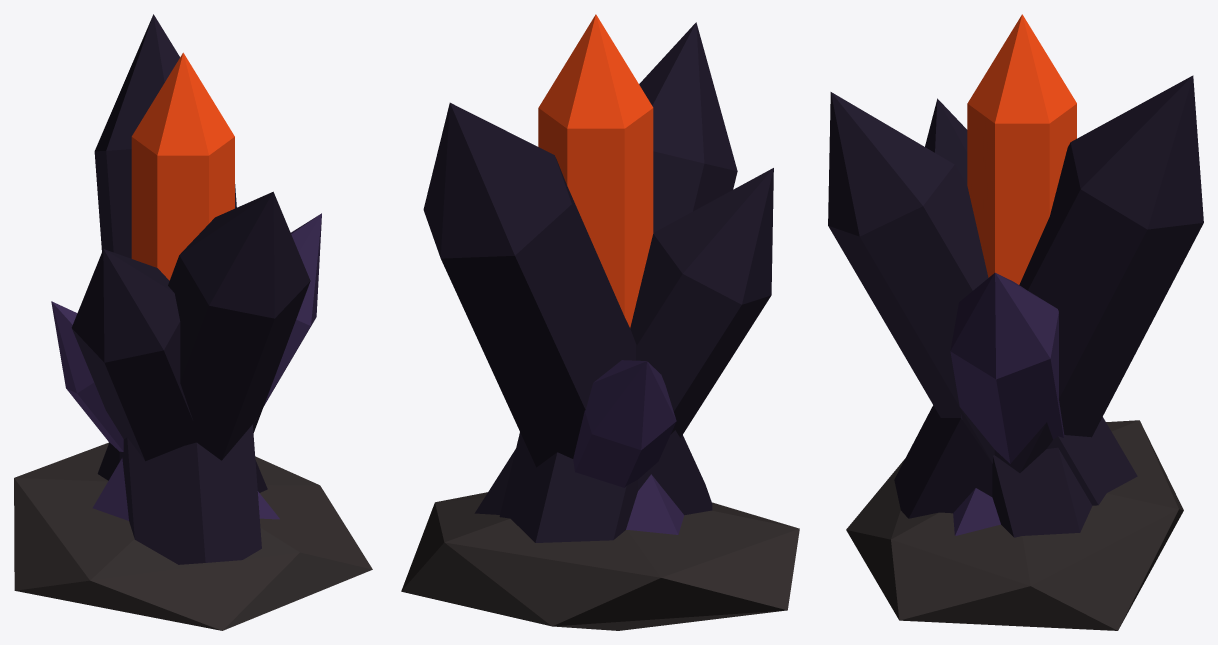
Rendered from ObsidianCrystals.fbx.
The picture shows the model from 3 angles, left to right: view 1: azimuth 30°, elevation 25°; view 2: azimuth 150°, elevation 25°; view 3: azimuth 270°, elevation 25°; orthographic projection. The views are drawn at different scales.
Visible parts, largest first — view 1: ObsidianCrystals, ObsidianCrystals_Glow; view 2: ObsidianCrystals, ObsidianCrystals_Glow; view 3: ObsidianCrystals, ObsidianCrystals_Glow.
Part boxes in pixels (x1,y1,x2,y2): ObsidianCrystals: (14, 14, 372, 630); ObsidianCrystals_Glow: (131, 52, 234, 280); ObsidianCrystals: (401, 22, 799, 630); ObsidianCrystals_Glow: (538, 14, 653, 327); ObsidianCrystals: (828, 75, 1203, 630); ObsidianCrystals_Glow: (967, 14, 1076, 284).
Bounding box in the file's own units: 292 × 489 × 288.
Materials: 1 (1 with a texture image).
